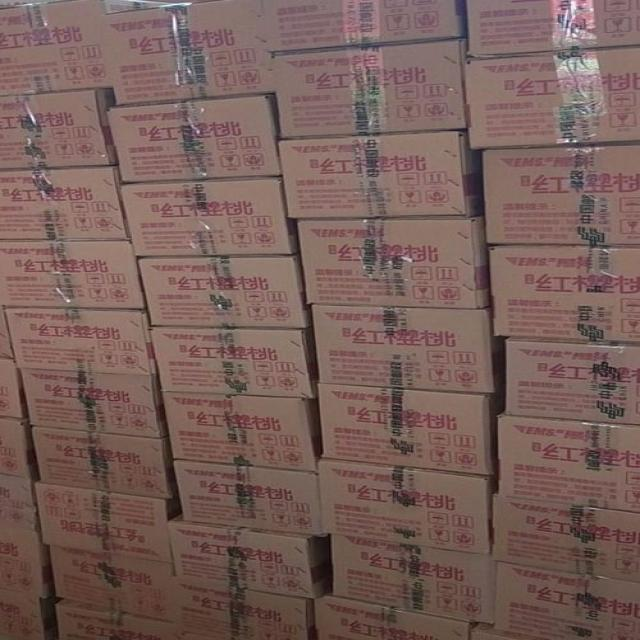box: (273, 39, 466, 137), (293, 211, 490, 306), (281, 130, 485, 216), (466, 47, 639, 148), (109, 1, 275, 106), (2, 1, 182, 95), (318, 459, 492, 555), (482, 139, 639, 245), (315, 383, 489, 476), (311, 304, 493, 392), (109, 95, 282, 182), (163, 511, 331, 599), (323, 536, 493, 622), (491, 245, 637, 342), (161, 388, 319, 475), (34, 477, 174, 575), (498, 416, 639, 511), (123, 176, 291, 254), (505, 333, 638, 427), (146, 326, 316, 399), (490, 555, 639, 638), (492, 495, 639, 579), (168, 460, 324, 538), (138, 255, 305, 327), (18, 367, 167, 438), (267, 0, 464, 53), (29, 424, 173, 496), (1, 308, 157, 373), (0, 164, 129, 241), (2, 240, 148, 308), (461, 2, 636, 57), (44, 547, 177, 619), (0, 89, 120, 167), (171, 576, 314, 638), (311, 597, 477, 638), (57, 597, 178, 637), (1, 532, 55, 597), (2, 584, 60, 638), (0, 473, 40, 545), (473, 620, 639, 637), (174, 618, 313, 638), (1, 415, 36, 480), (1, 364, 26, 420)
